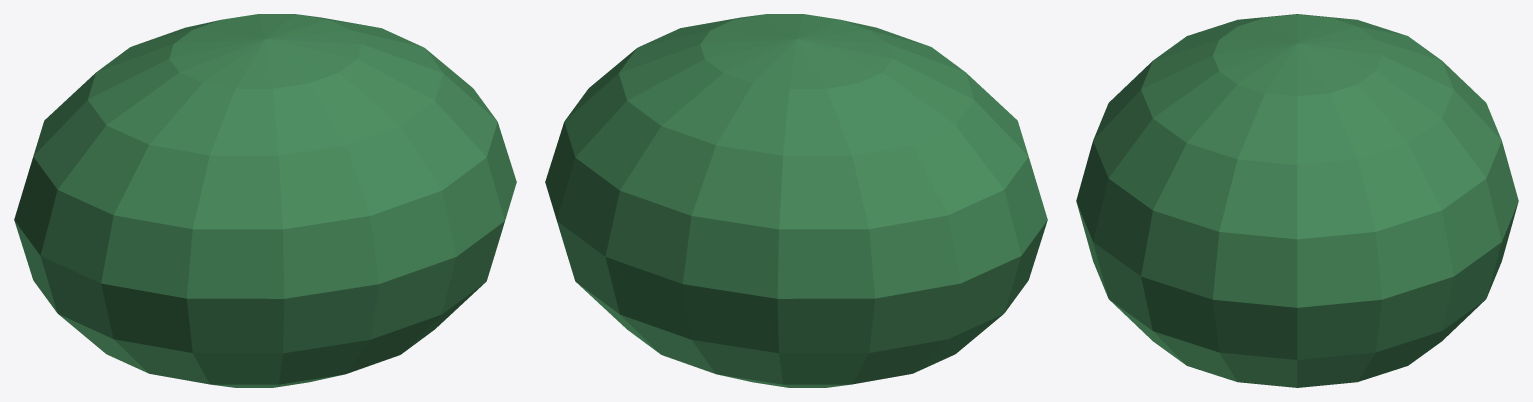
Rendered from Vegetation_004.glb.
3 views of the same model, side by side, from view 1: azimuth 30°, elevation 25°; view 2: azimuth 150°, elevation 25°; view 3: azimuth 270°, elevation 25° (orthographic). The views are drawn at different scales.
Parts seen in each view (by area): view 1: Vegetation_004; view 2: Vegetation_004; view 3: Vegetation_004.
Part boxes in pixels (x1,y1,x2,y2): Vegetation_004: (14,14,516,387); Vegetation_004: (545,14,1047,387); Vegetation_004: (1076,14,1518,387).
Bounding box in the file's own units: 1.6 × 1.1 × 1.4.
